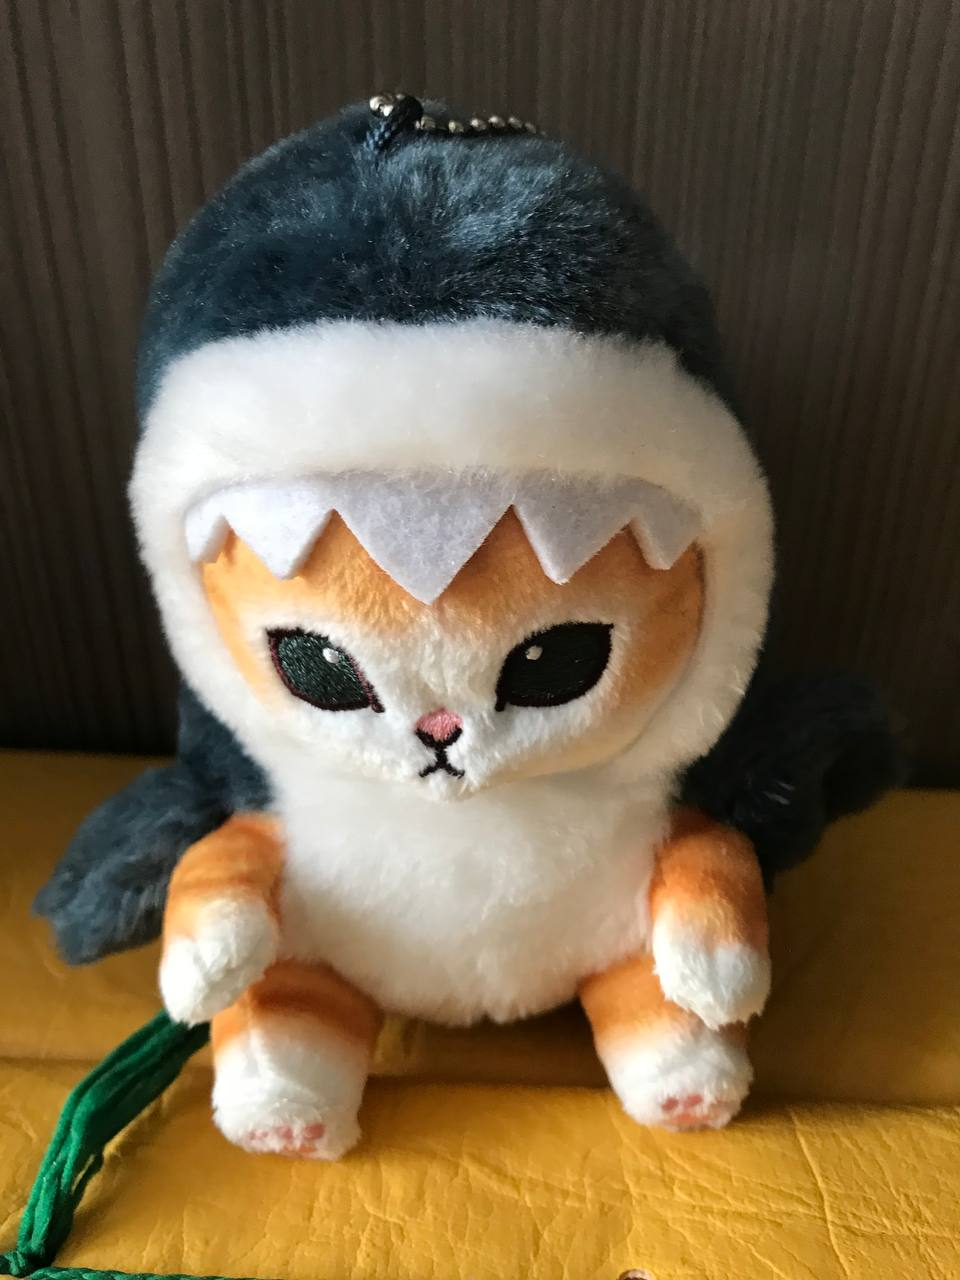cat_shark: (29, 106, 893, 1174)
